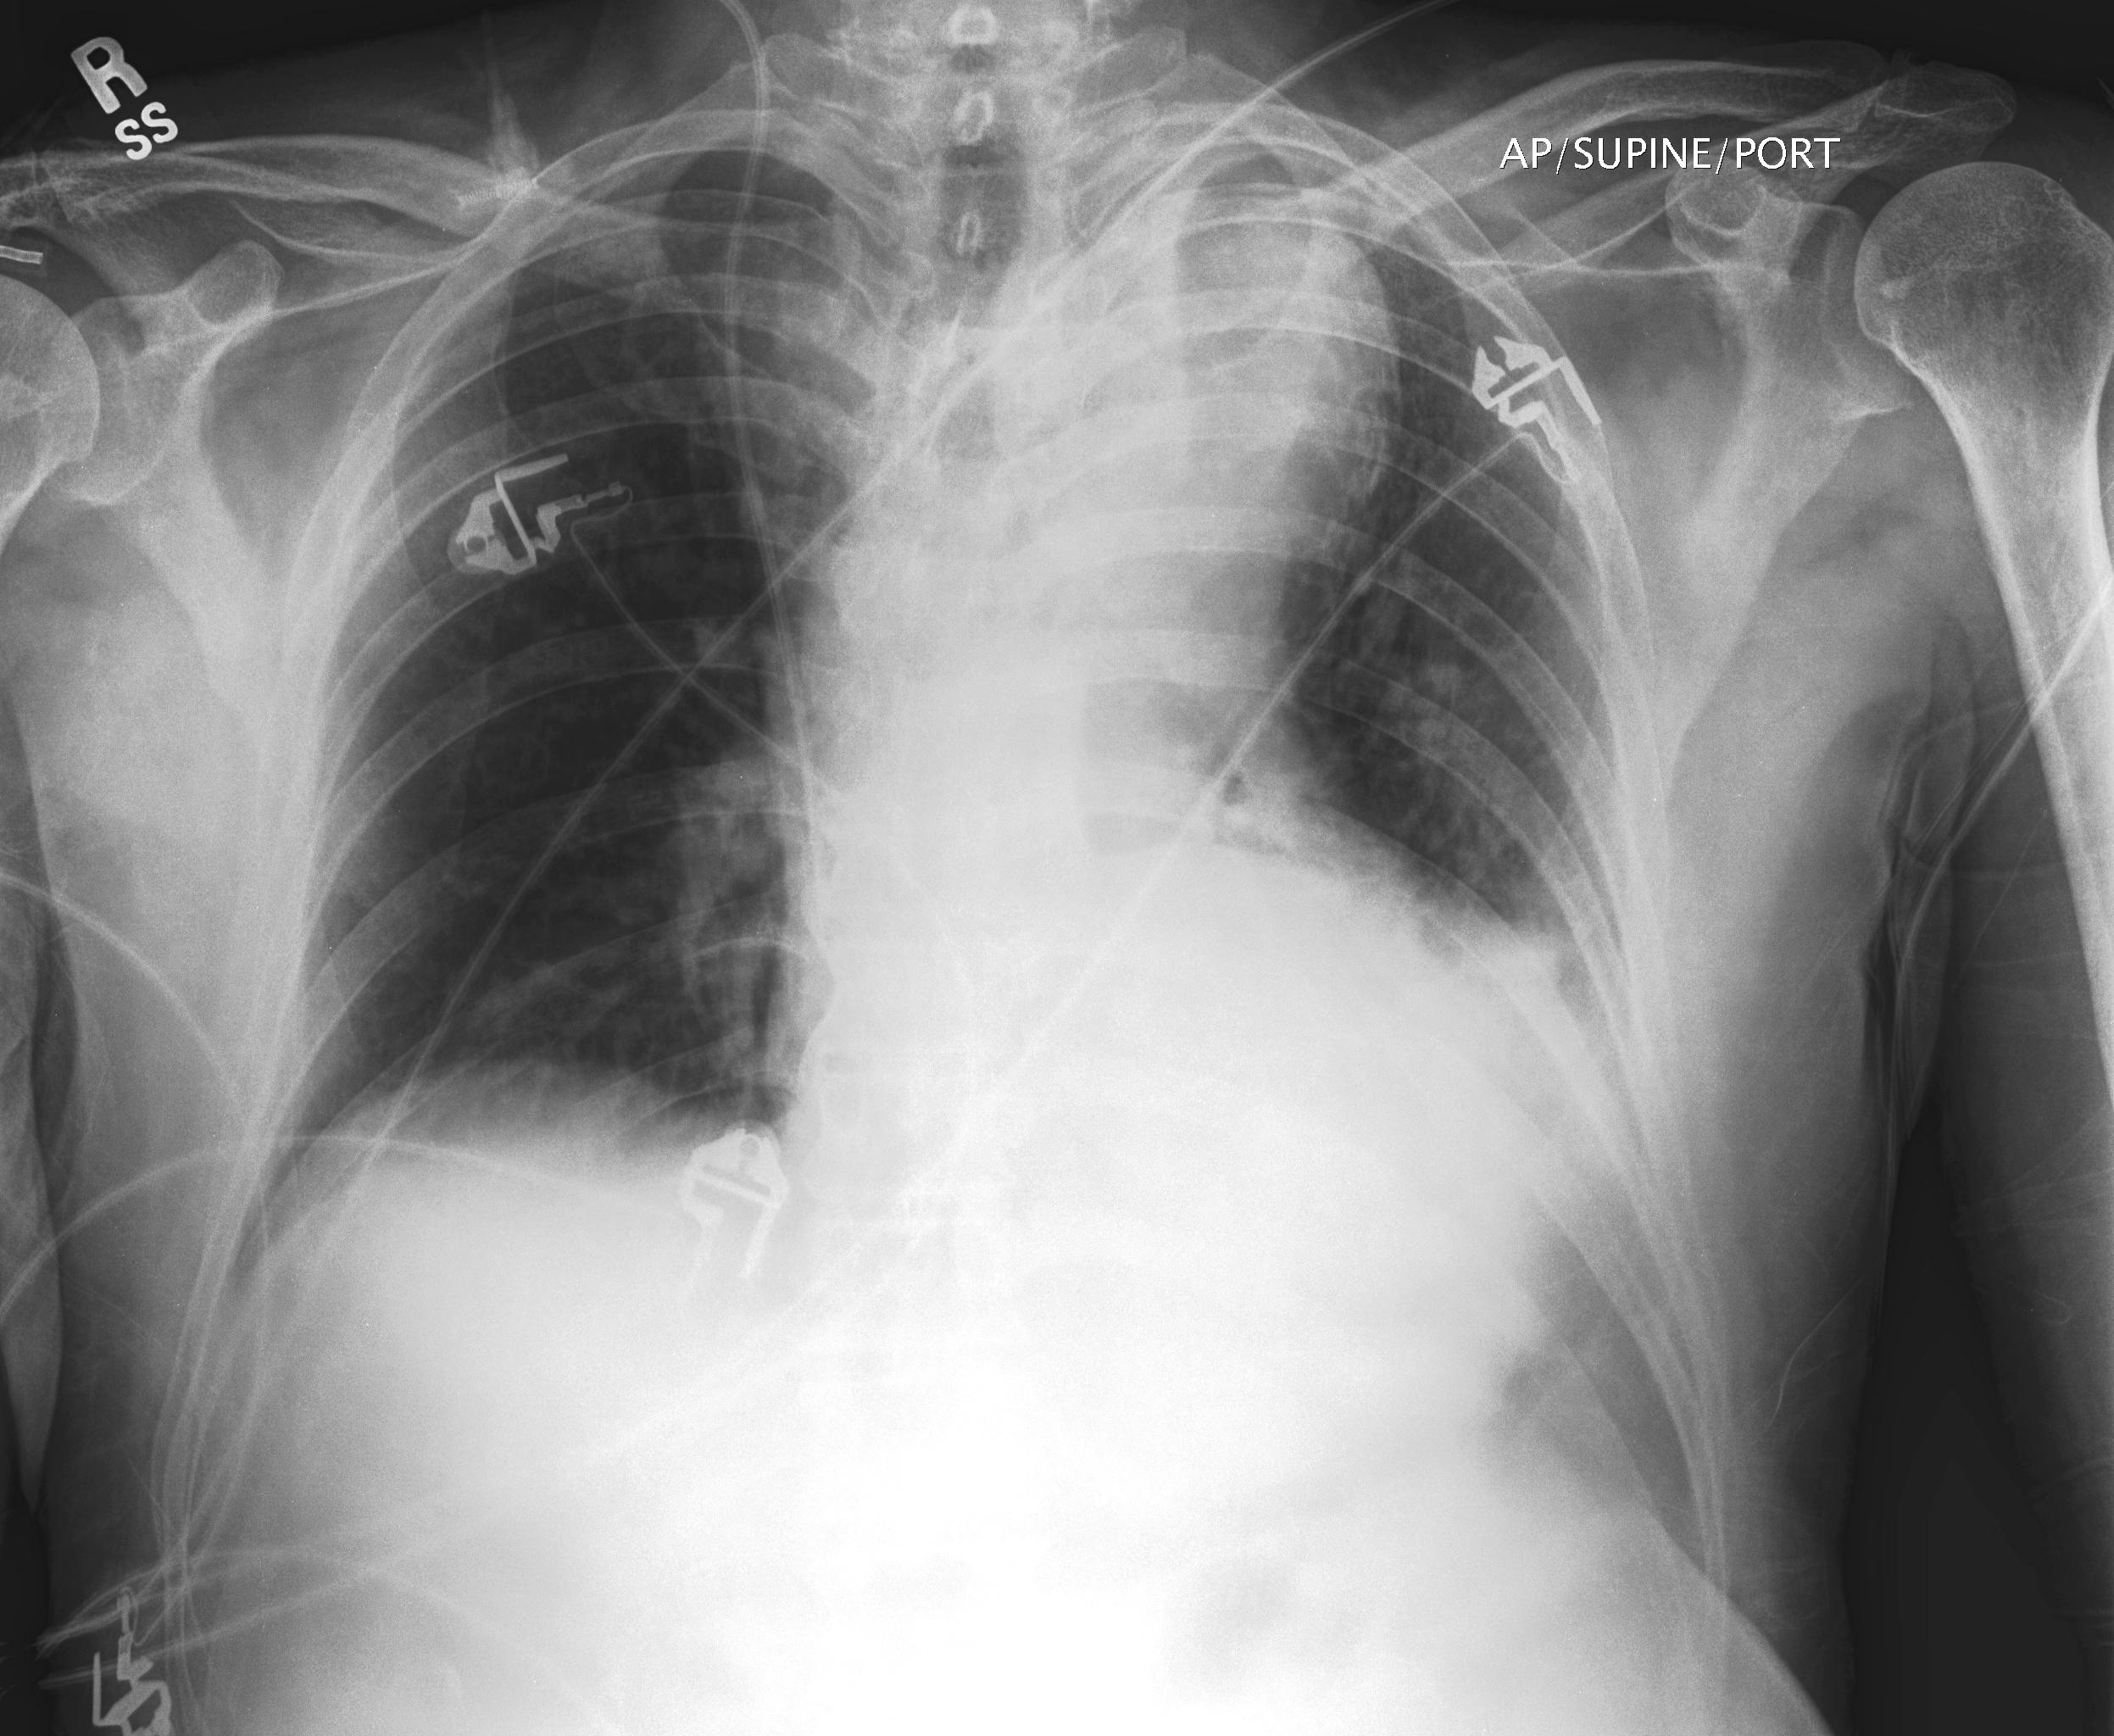Pleural Effusion: (1305, 918, 1684, 1315)
